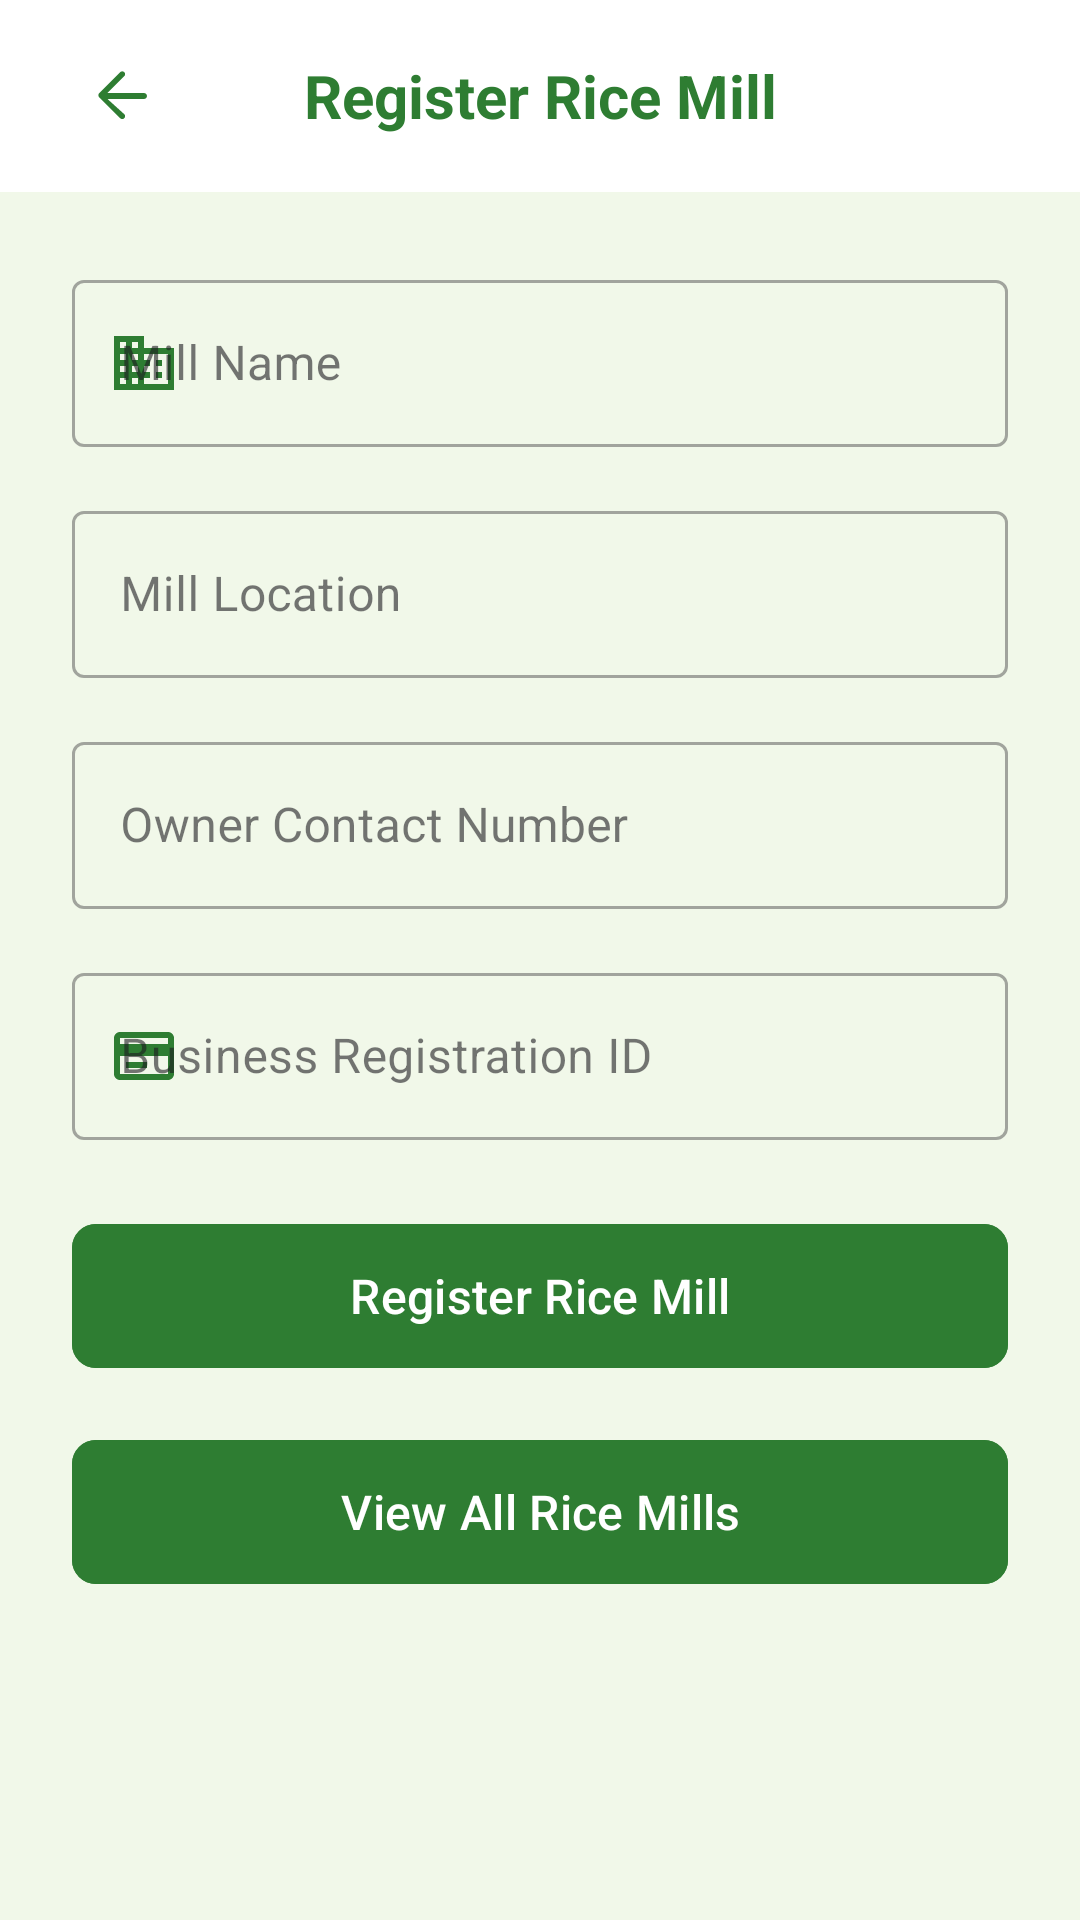

Screen size 1080px×1920px. Icon name, then its box in pixels as (x1, y1, x2, y2):
Back: (98, 71, 147, 119)
